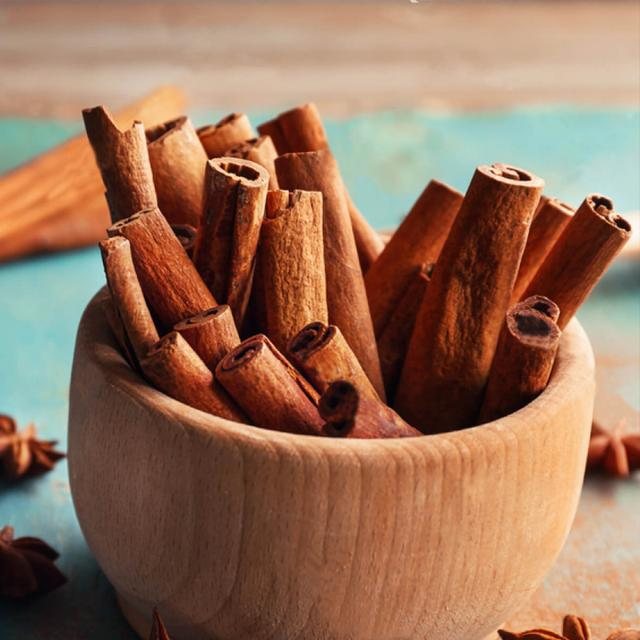Cinnamon: (395, 164, 544, 434), (275, 149, 385, 399), (364, 180, 464, 401), (522, 194, 631, 329), (108, 208, 218, 330), (194, 158, 269, 328), (260, 190, 328, 352), (216, 340, 325, 435), (140, 331, 250, 424), (480, 299, 561, 421), (82, 106, 158, 222), (286, 321, 381, 401), (146, 116, 208, 228), (278, 102, 329, 152), (271, 346, 276, 351)
